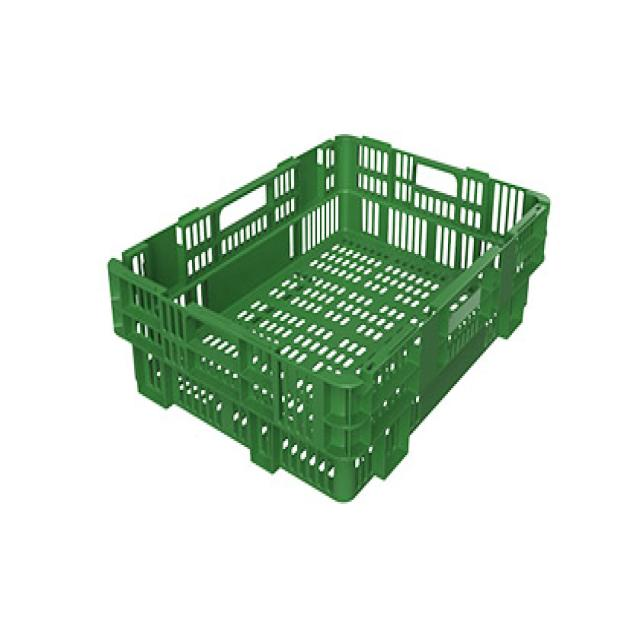basket: (57, 7, 596, 552)
